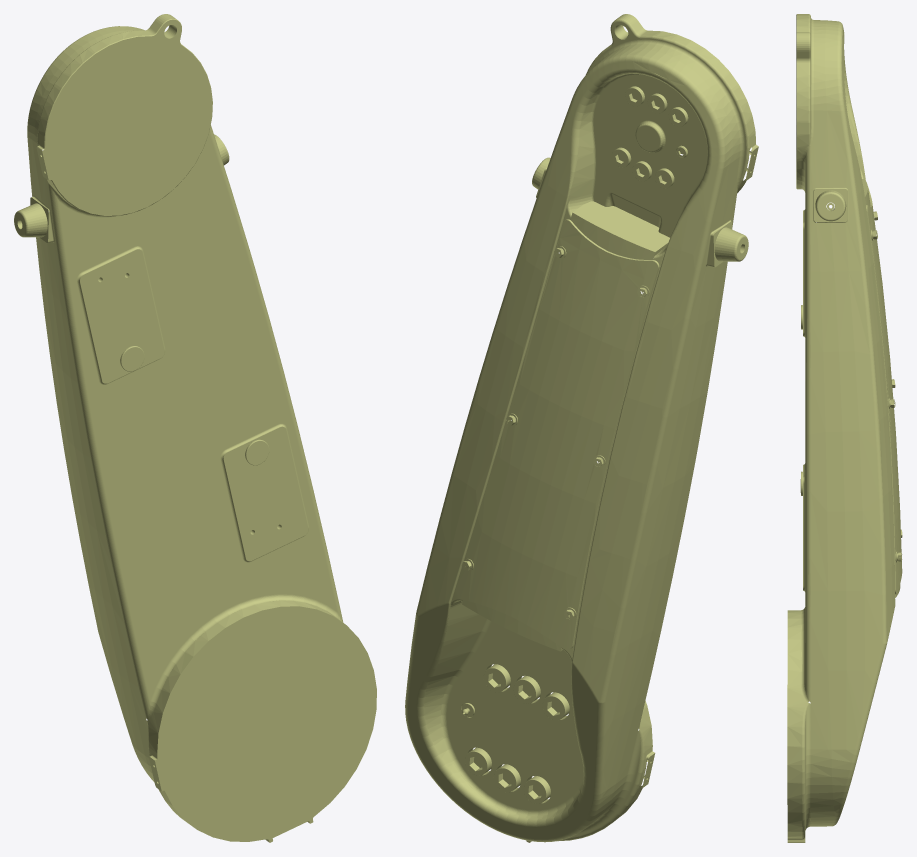
The model's file is case-02_lib00001.glb.
The picture shows the model from 3 angles, left to right: view 1: azimuth 30°, elevation 25°; view 2: azimuth 150°, elevation 25°; view 3: azimuth 270°, elevation 25°; orthographic projection. The views are drawn at different scales.
Visible parts, largest first — view 1: lib00001; view 2: lib00001; view 3: lib00001.
Boxes of the visible parts, x1=… form: lib00001: x1=14, y1=14, x2=376, y2=842; lib00001: x1=405, y1=14, x2=758, y2=842; lib00001: x1=787, y1=14, x2=902, y2=842.
Size of the model in its own units: 32.28 by 78 by 10.72.
